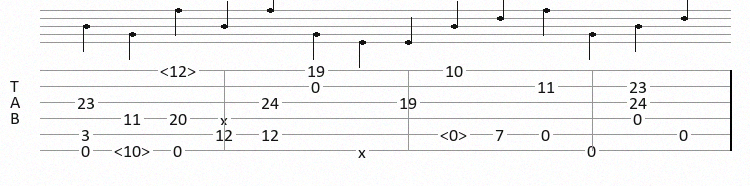0: (81, 143, 94, 158), (173, 143, 186, 158), (311, 79, 324, 94), (541, 127, 554, 142), (587, 143, 600, 158), (633, 111, 646, 126), (679, 127, 692, 142)
10: (445, 63, 467, 78)
11: (123, 111, 145, 126), (537, 79, 559, 94)
12: (215, 127, 237, 142), (261, 127, 283, 142)
19: (307, 63, 329, 78), (399, 95, 421, 110)
20: (169, 111, 191, 126)
23: (77, 95, 99, 110), (629, 79, 651, 94)
24: (261, 95, 283, 110), (629, 95, 651, 110)
3: (81, 127, 94, 142)
7: (495, 127, 508, 142)
harmonic: (114, 143, 154, 158), (160, 63, 200, 78), (440, 127, 471, 142)
x: (220, 112, 232, 124), (358, 144, 370, 156)
